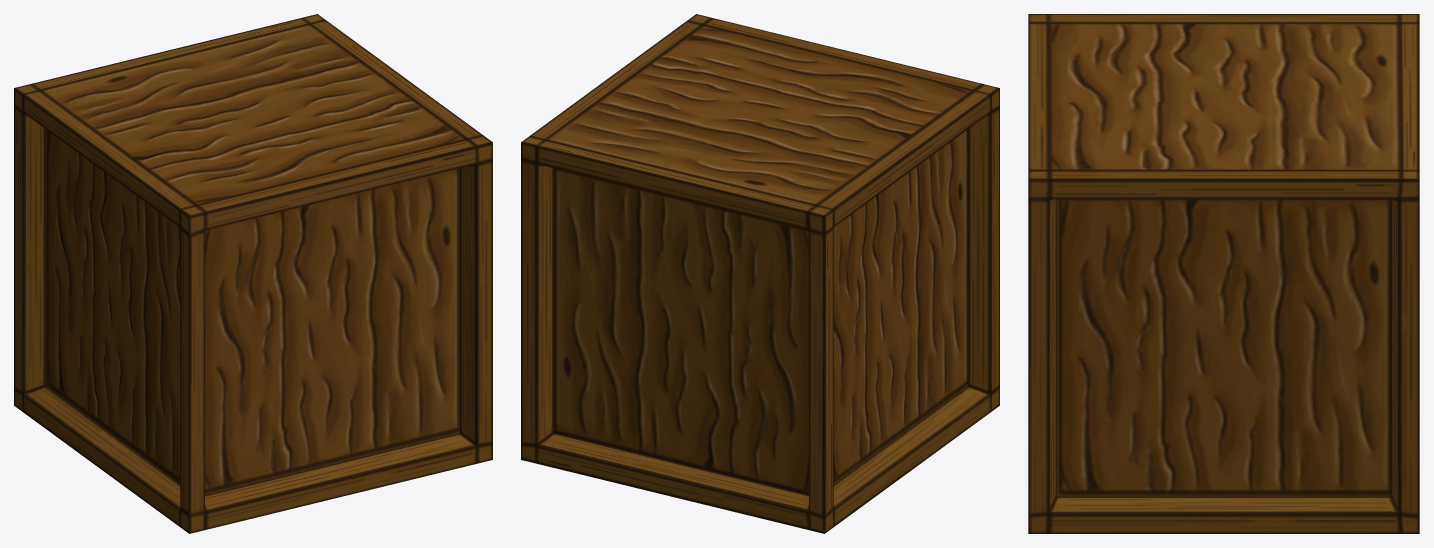
Rendered from CaixaV2.fbx.
The picture shows the model from 3 angles, left to right: view 1: azimuth 30°, elevation 25°; view 2: azimuth 150°, elevation 25°; view 3: azimuth 270°, elevation 25°; orthographic projection. The views are drawn at different scales.
Visible parts, largest first — view 1: caixote; view 2: caixote; view 3: caixote.
Boxes of the visible parts, x1,y1,x2,y2 form: caixote: (14, 14, 492, 533); caixote: (521, 14, 999, 533); caixote: (1028, 14, 1419, 533).
Size of the model in its own units: 1.92 by 1.92 by 1.92.
